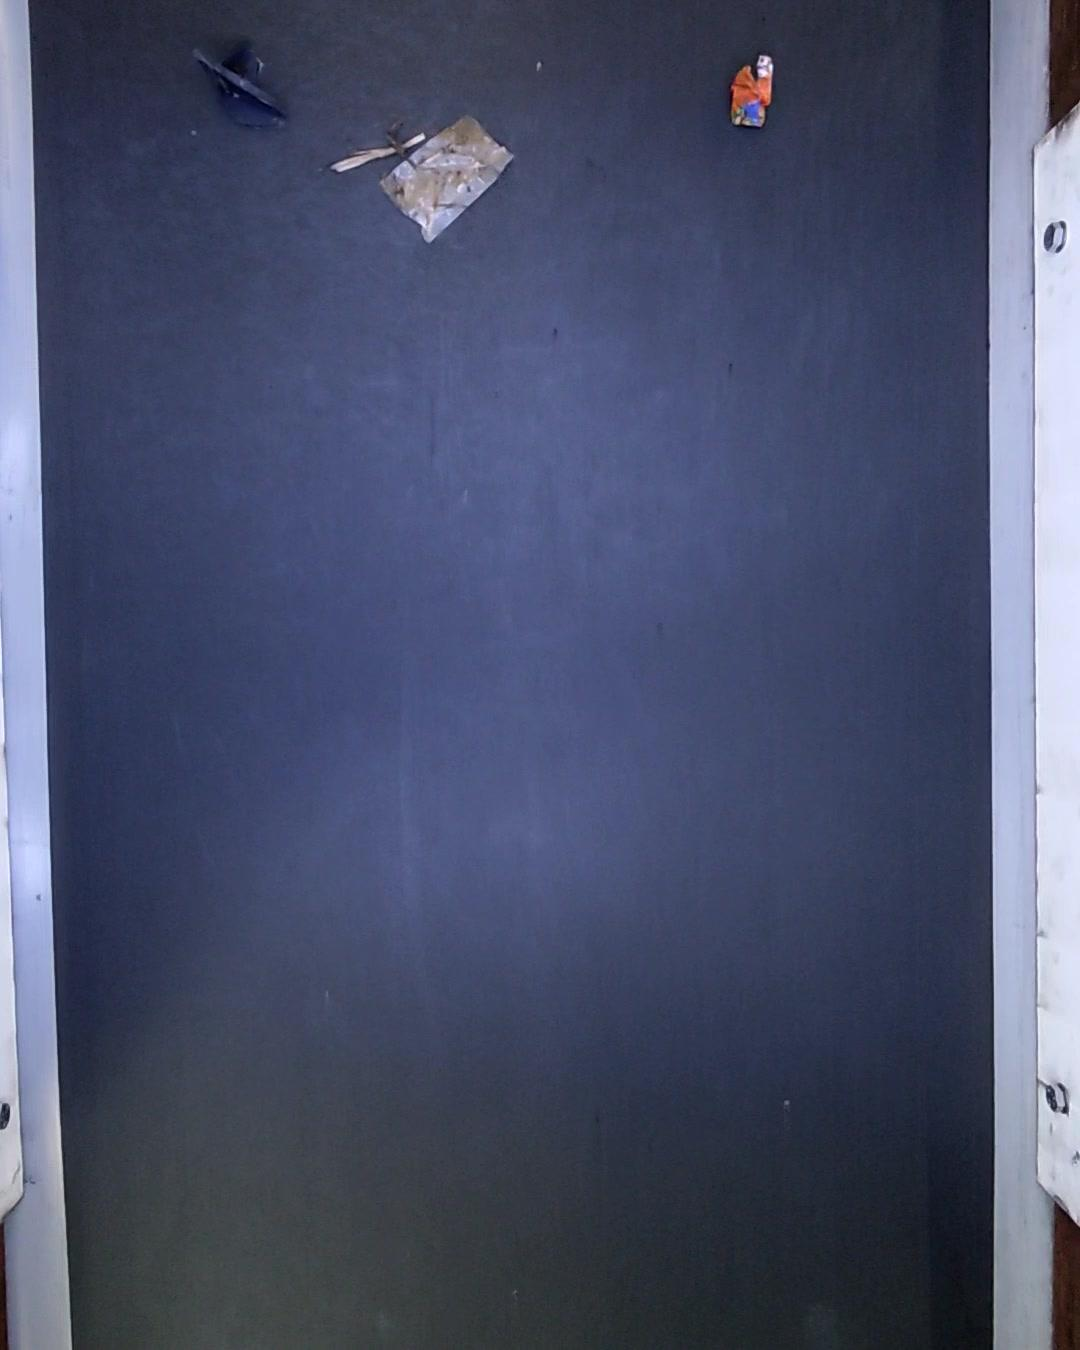Plastic folies of stukken daarvan 2.5- 50 cm: (381, 114, 519, 238)
